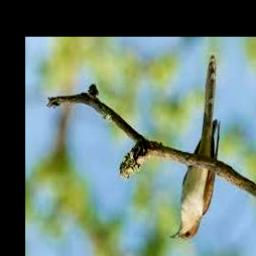Cuckoo: (168, 55, 221, 240)
